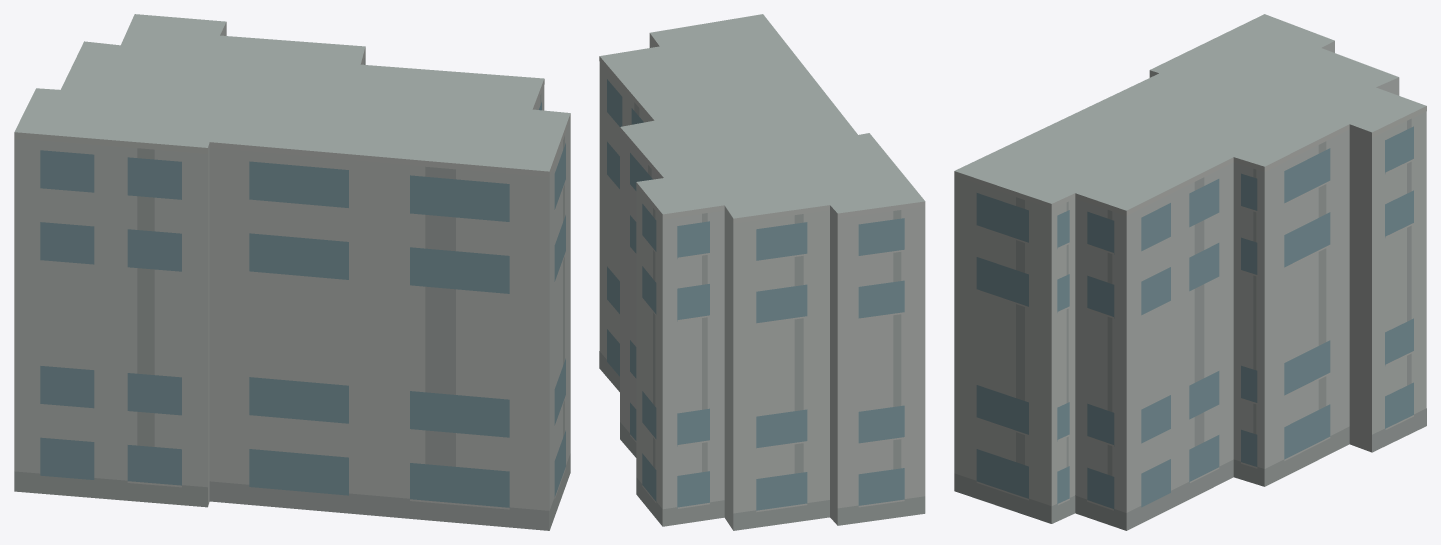
File: survey-upis-32810379.glb
The picture shows the model from 3 angles, left to right: view 1: azimuth 30°, elevation 25°; view 2: azimuth 150°, elevation 25°; view 3: azimuth 270°, elevation 25°; orthographic projection. The views are drawn at different scales.
Parts seen in each view (by area): view 1: survey-upis-32810379.tmp; view 2: survey-upis-32810379.tmp; view 3: survey-upis-32810379.tmp.
Part boxes in pixels (box(x1,y1,x2,y2)): survey-upis-32810379.tmp: box(14, 14, 570, 530); survey-upis-32810379.tmp: box(599, 14, 925, 530); survey-upis-32810379.tmp: box(954, 14, 1426, 530).
Bounding box in the file's own units: 19.38 × 14.7 × 19.67.
